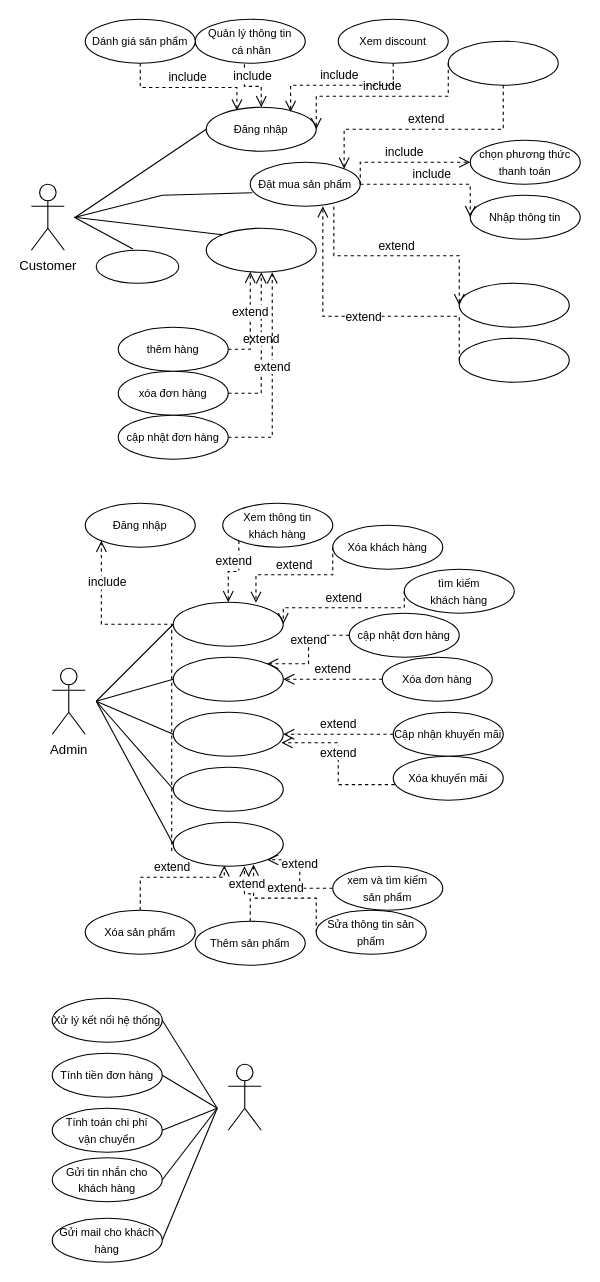
Some shapes in this 600 by 1282 pixel diagram are drawn without their labels. The centre of each missing label's shape, as x and y in pixels:
Chọn discount: (502,62)
Giỏ hàng: (260,249)
Quản lý hình thức khuyến mãi: (227,733)
Quản lý khách hàng: (227,623)
Quản lý lưu và phục hồi dữ liệu: (227,788)
Quản lý sản phẩm: (227,843)
Quản lý đơn hàng của khách hàng: (227,678)
System: (244,1096)
Tìm kiếm sản phẩm: (513,359)
Xem sản phẩm: (513,304)
Đăng ký: (137,266)
